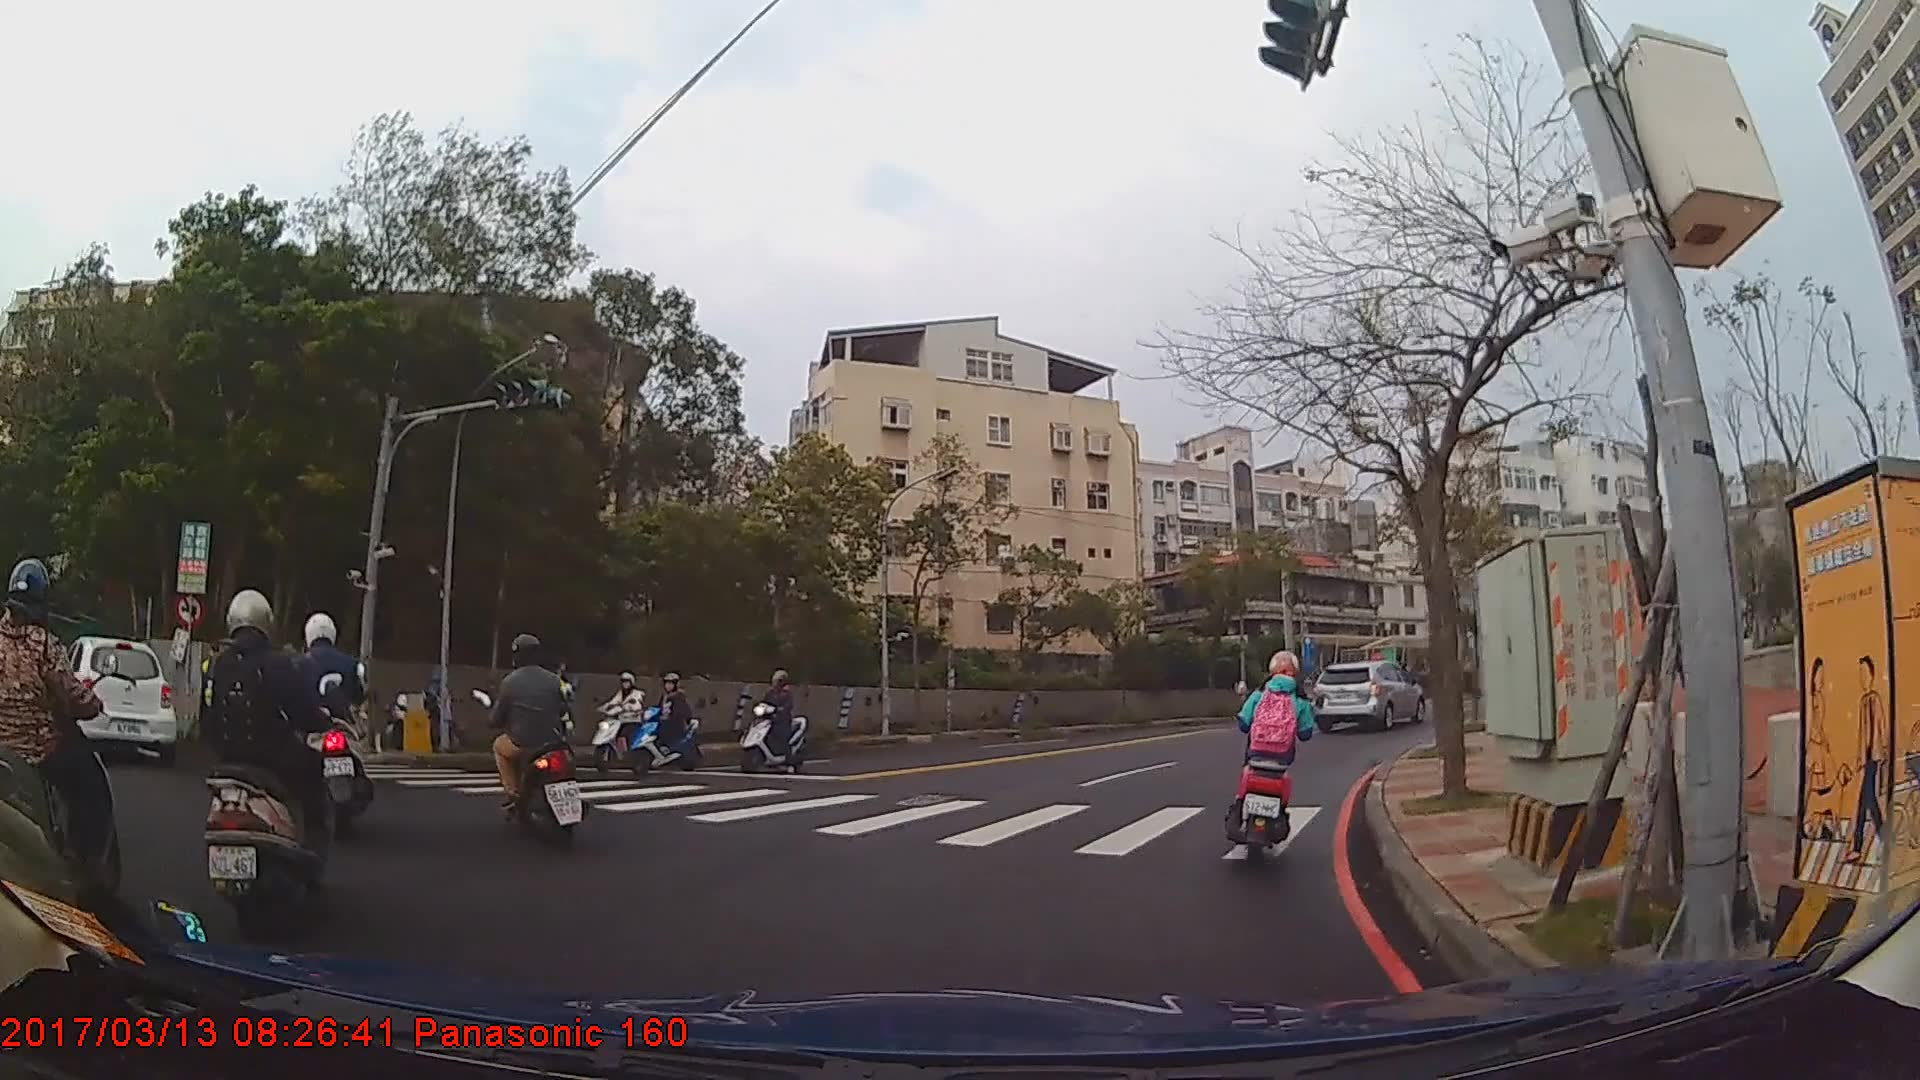rider: (1, 555, 126, 946), (199, 589, 337, 926), (476, 634, 588, 855), (289, 615, 377, 846), (1231, 652, 1319, 855), (630, 673, 700, 774), (738, 671, 807, 774), (592, 674, 654, 768)
vehicle: (50, 636, 175, 759), (1310, 661, 1426, 734)
